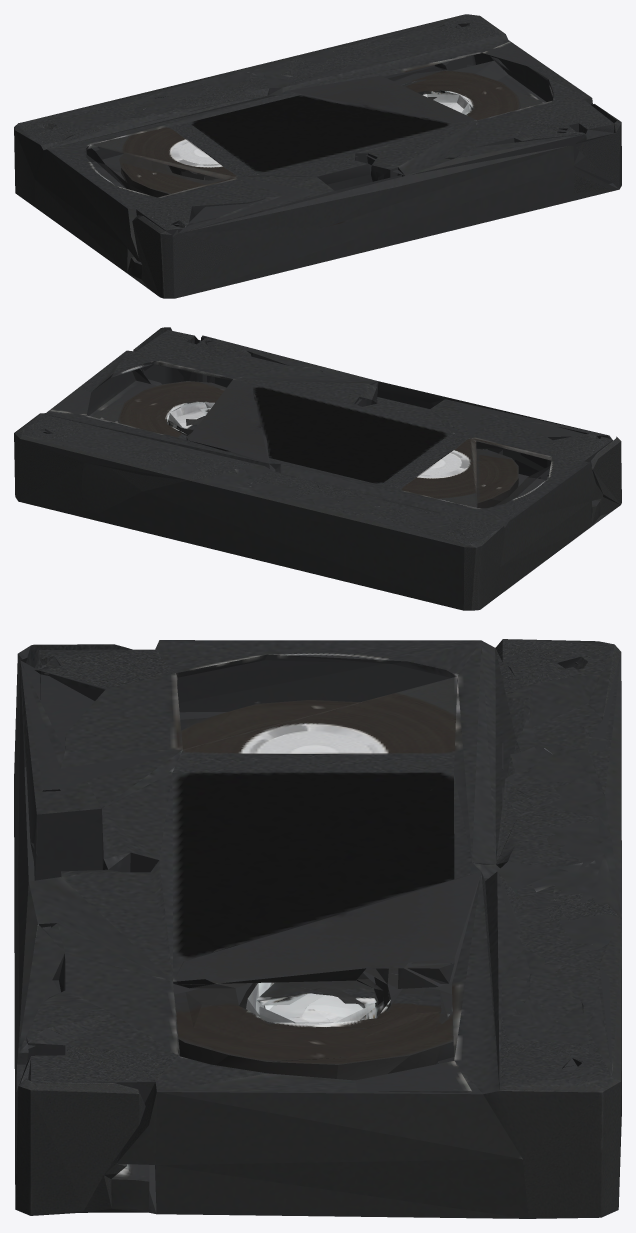
The model's file is prop_tape.glb.
The picture shows the model from 3 angles, top to bottom: view 1: azimuth 30°, elevation 25°; view 2: azimuth 150°, elevation 25°; view 3: azimuth 270°, elevation 25°; orthographic projection. The views are drawn at different scales.
Visible parts, largest first — view 1: Mesh_0; view 2: Mesh_0; view 3: Mesh_0.
Boxes of the visible parts, box(x1,y1,x2,y2) form: Mesh_0: box(14, 14, 621, 298); Mesh_0: box(14, 327, 621, 610); Mesh_0: box(14, 639, 621, 1218).
Bounding box in the file's own units: 1.9 × 0.2618 × 1.08.
1 material, 1 textured.
